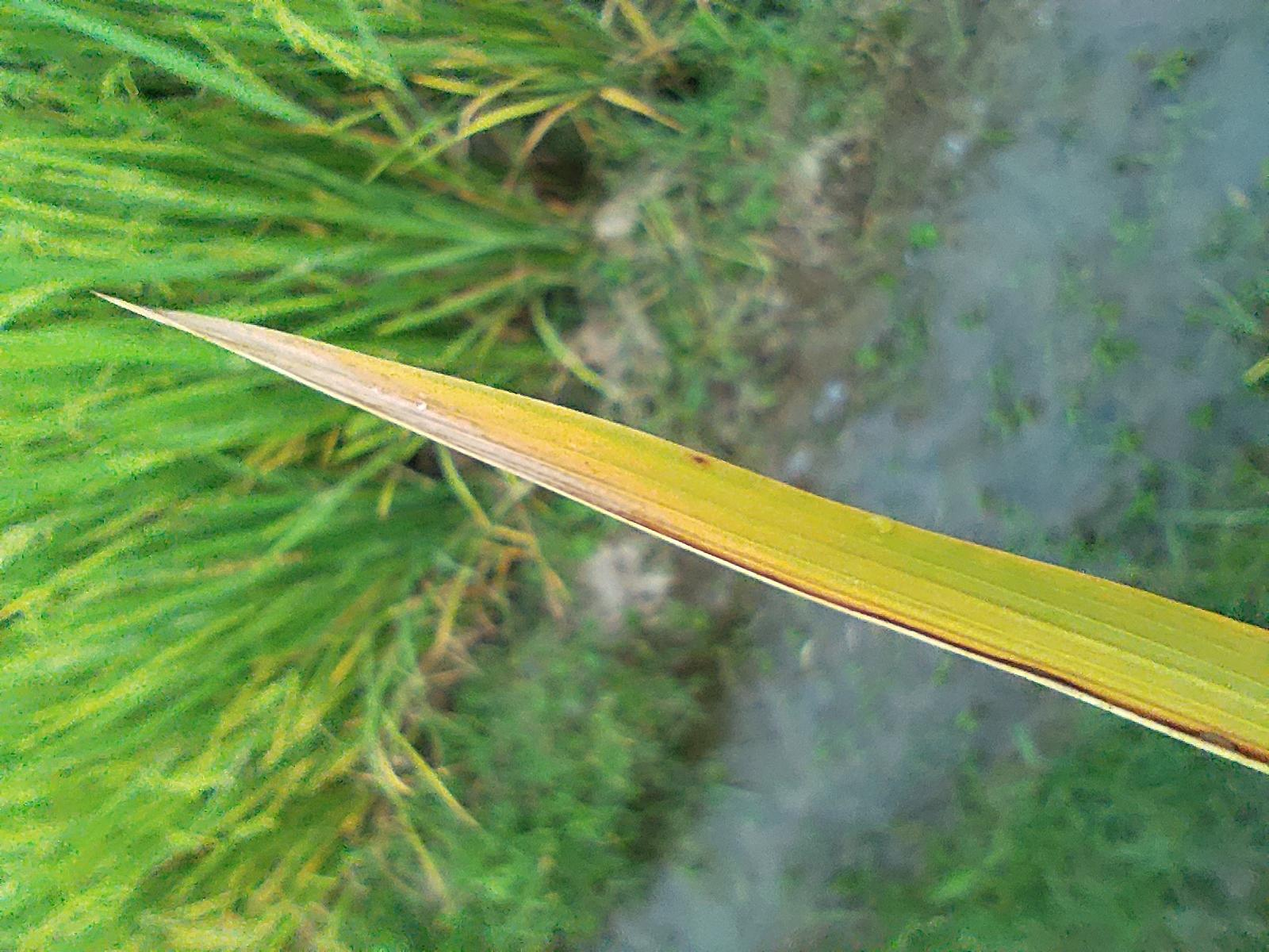BLB: (240, 76, 875, 951)
LEAF: (238, 74, 876, 951)
